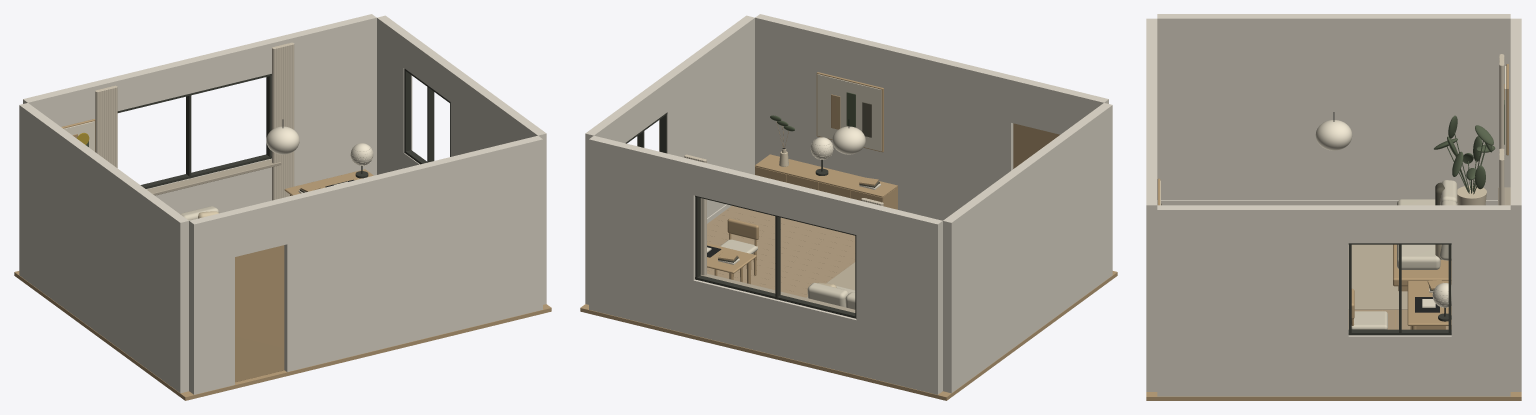
Rendered from space.glb.
3 renders of one model, left to right at view 1: azimuth 30°, elevation 25°; view 2: azimuth 150°, elevation 25°; view 3: azimuth 270°, elevation 25°, orthographic. The views are drawn at different scales.
Visible parts, largest first — view 1: south plaster wall.002, west plaster wall, north plaster wall.003, south plaster wall, Flush timber door, north plaster wall.002, east plaster wall, east plaster wall.003, north plaster wall.001, Continuous subfloor, south plaster wall.001, north plaster wall (+9 smaller); view 2: south plaster wall.002, west plaster wall, north plaster wall.003, north plaster wall, east plaster wall, north plaster wall.001, north plaster wall.002, Sideboard art linen, Continuous subfloor, south plaster wall.001, east plaster wall.002, Top panel 20mm (+19 smaller); view 3: west plaster wall, east plaster wall, east plaster wall.003, east plaster wall.001, east plaster wall.002, south plaster wall.002, Bound wool area rug, north plaster wall.003, Continuous subfloor, Painted baseboard.003, Timber top.001, north plaster wall.002 (+12 smaller).
Boxes of the visible parts, box(x1,y1,x2,y2) form: south plaster wall.002: box(282, 135, 542, 371); west plaster wall: box(19, 103, 188, 393); north plaster wall.003: box(267, 14, 376, 186); south plaster wall: box(189, 211, 234, 394); Flush timber door: box(235, 245, 284, 382); north plaster wall.002: box(104, 39, 272, 110); east plaster wall: box(450, 69, 546, 304); east plaster wall.003: box(377, 15, 412, 174); north plaster wall.001: box(146, 158, 271, 213); Continuous subfloor: box(14, 271, 551, 400); south plaster wall.001: box(230, 198, 287, 256); north plaster wall: box(23, 79, 109, 126); south plaster wall.002: box(755, 14, 1015, 220); west plaster wall: box(943, 103, 1112, 393); north plaster wall.003: box(589, 135, 698, 335); north plaster wall: box(856, 201, 942, 394); east plaster wall: box(659, 15, 754, 217); north plaster wall.001: box(693, 279, 856, 374); north plaster wall.002: box(693, 161, 860, 234); Sideboard art linen: box(817, 74, 881, 151); Continuous subfloor: box(580, 271, 1117, 400); south plaster wall.001: box(1011, 76, 1067, 134); east plaster wall.002: box(612, 79, 667, 142); Top panel 20mm: box(755, 154, 897, 197); west plaster wall: box(1157, 14, 1510, 199); east plaster wall: box(1157, 205, 1348, 396); east plaster wall.003: box(1451, 205, 1510, 396); east plaster wall.001: box(1348, 335, 1451, 396); east plaster wall.002: box(1348, 205, 1451, 243); south plaster wall.002: box(1146, 68, 1157, 391); Bound wool area rug: box(1348, 244, 1407, 309); north plaster wall.003: box(1510, 149, 1521, 391); Continuous subfloor: box(1146, 310, 1521, 400); Painted baseboard.003: box(1161, 200, 1497, 205); Timber top.001: box(1407, 281, 1451, 325); north plaster wall.002: box(1510, 62, 1521, 149).
Bounding box in the file's own units: 6.3 × 2.87 × 5.1.
